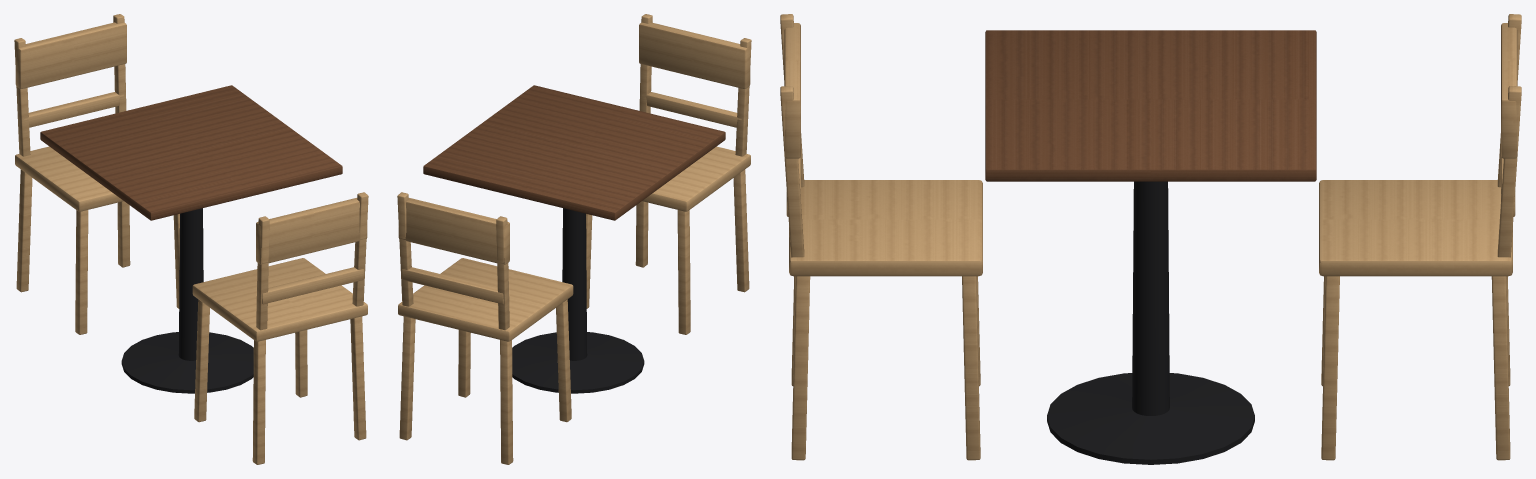
The model's file is restaurant-2-top-table-set.glb.
3 renders of one model, left to right at view 1: azimuth 30°, elevation 25°; view 2: azimuth 150°, elevation 25°; view 3: azimuth 270°, elevation 25°, orthographic. The views are drawn at different scales.
Parts seen in each view (by area): view 1: Restaurant 2-top table set - Oak chairs, Restaurant 2-top table set - Walnut tables and joinery, Restaurant 2-top table set - Black powder-coated steel; view 2: Restaurant 2-top table set - Oak chairs, Restaurant 2-top table set - Walnut tables and joinery, Restaurant 2-top table set - Black powder-coated steel; view 3: Restaurant 2-top table set - Oak chairs, Restaurant 2-top table set - Walnut tables and joinery, Restaurant 2-top table set - Black powder-coated steel.
Part boxes in pixels (bbox=[...]): Restaurant 2-top table set - Oak chairs: bbox=[14, 14, 368, 464]; Restaurant 2-top table set - Walnut tables and joinery: bbox=[40, 85, 342, 220]; Restaurant 2-top table set - Black powder-coated steel: bbox=[121, 208, 253, 393]; Restaurant 2-top table set - Oak chairs: bbox=[397, 14, 751, 464]; Restaurant 2-top table set - Walnut tables and joinery: bbox=[423, 85, 725, 220]; Restaurant 2-top table set - Black powder-coated steel: bbox=[512, 208, 644, 393]; Restaurant 2-top table set - Oak chairs: bbox=[780, 14, 1521, 460]; Restaurant 2-top table set - Walnut tables and joinery: bbox=[985, 30, 1316, 181]; Restaurant 2-top table set - Black powder-coated steel: bbox=[1047, 181, 1254, 464].
Size of the model in its own units: 0.7 by 0.8612 by 1.57.
3 materials, 3 textured.
